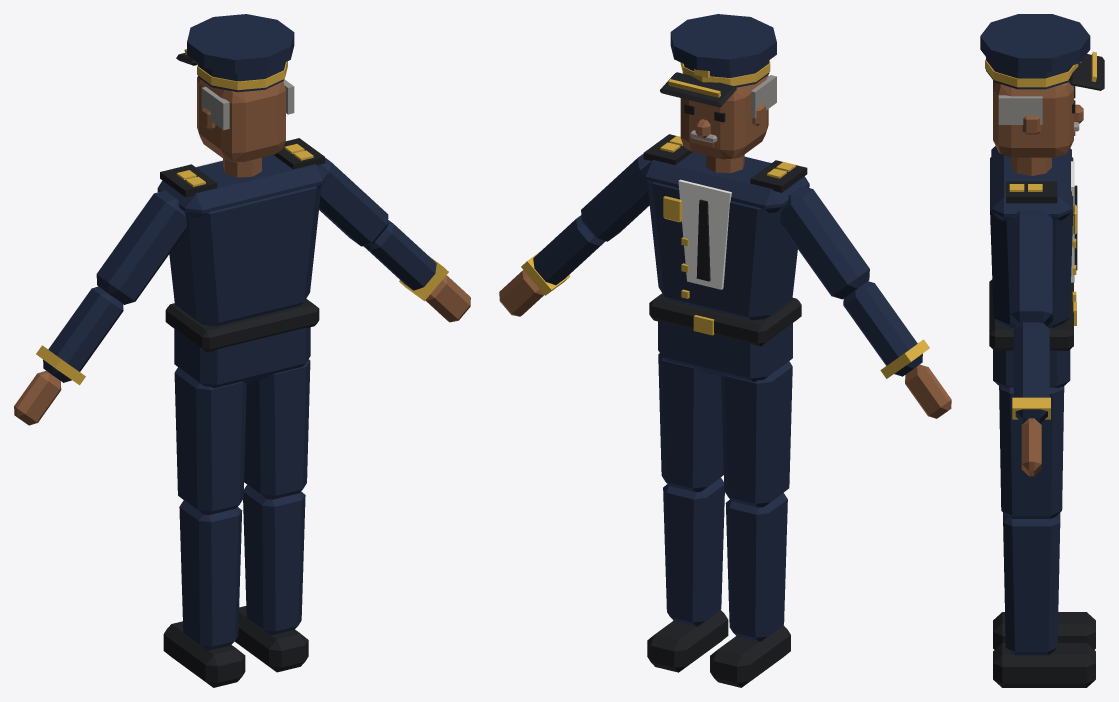
File: PD_PoliceChief.fbx
3 renders of one model, left to right at view 1: azimuth 30°, elevation 25°; view 2: azimuth 150°, elevation 25°; view 3: azimuth 270°, elevation 25°, orthographic.
Visible parts, largest first — view 1: PD_PoliceChief_Body; view 2: PD_PoliceChief_Body; view 3: PD_PoliceChief_Body.
Part boxes in pixels (x1,y1,x2,y2): PD_PoliceChief_Body: [14, 14, 470, 687]; PD_PoliceChief_Body: [499, 14, 951, 687]; PD_PoliceChief_Body: [980, 14, 1104, 687].
Size of the model in its own units: 1.43 by 1.89 by 0.3389.
